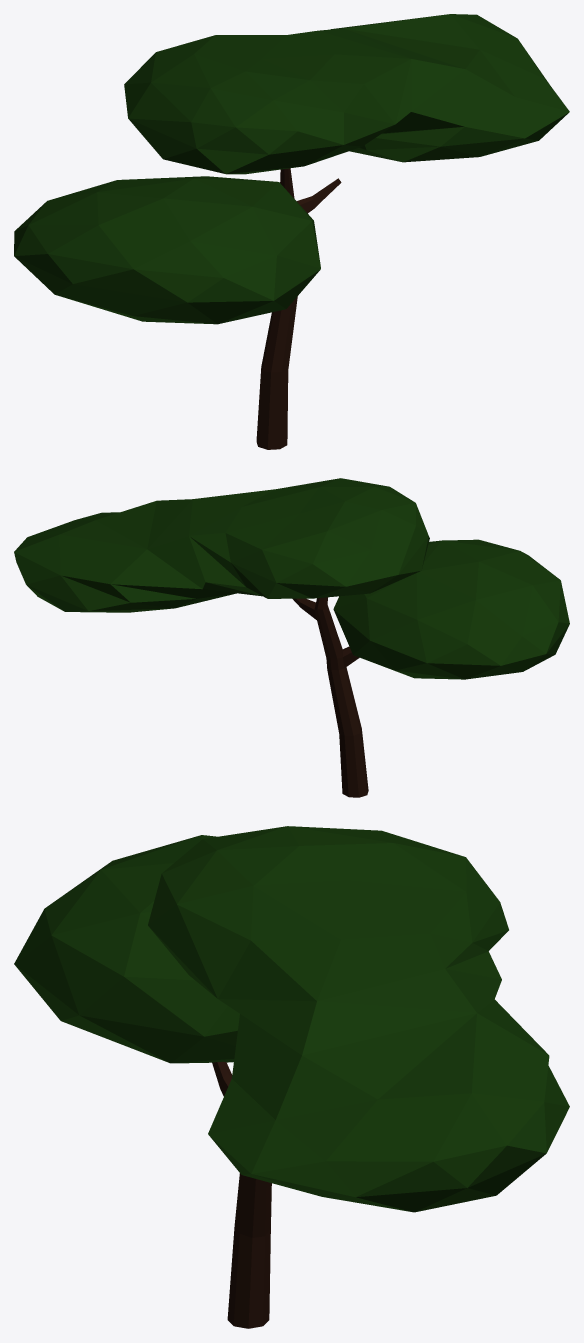
Rendered from Forest Assets.obj.
3 views of the same model, one above another, from view 1: azimuth 30°, elevation 25°; view 2: azimuth 150°, elevation 25°; view 3: azimuth 270°, elevation 25° (orthographic). The views are drawn at different scales.
Visible parts, largest first — view 1: Norm_Tree_Leaves_Icosphere, Norm_Tree_Branches_Cylinder.001; view 2: Norm_Tree_Leaves_Icosphere, Norm_Tree_Branches_Cylinder.001; view 3: Norm_Tree_Leaves_Icosphere, Norm_Tree_Branches_Cylinder.001.
Part boxes in pixels (bbox=[...]): Norm_Tree_Leaves_Icosphere: bbox=[14, 14, 569, 324]; Norm_Tree_Branches_Cylinder.001: bbox=[256, 168, 341, 449]; Norm_Tree_Leaves_Icosphere: bbox=[14, 478, 569, 679]; Norm_Tree_Branches_Cylinder.001: bbox=[292, 597, 368, 797]; Norm_Tree_Leaves_Icosphere: bbox=[14, 826, 569, 1212]; Norm_Tree_Branches_Cylinder.001: bbox=[212, 1061, 271, 1328].
Size of the model in its own units: 10.12 by 6.19 by 6.65.
